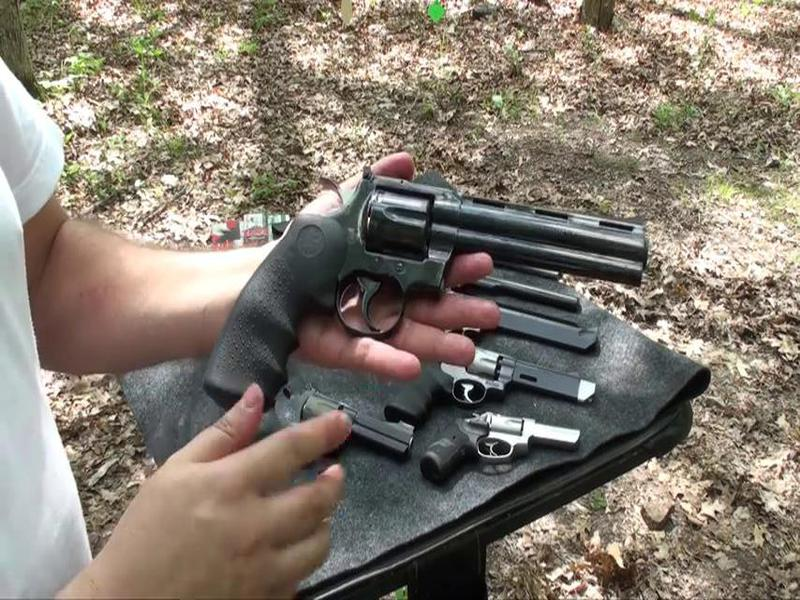Revolver: (237, 152, 654, 373)
